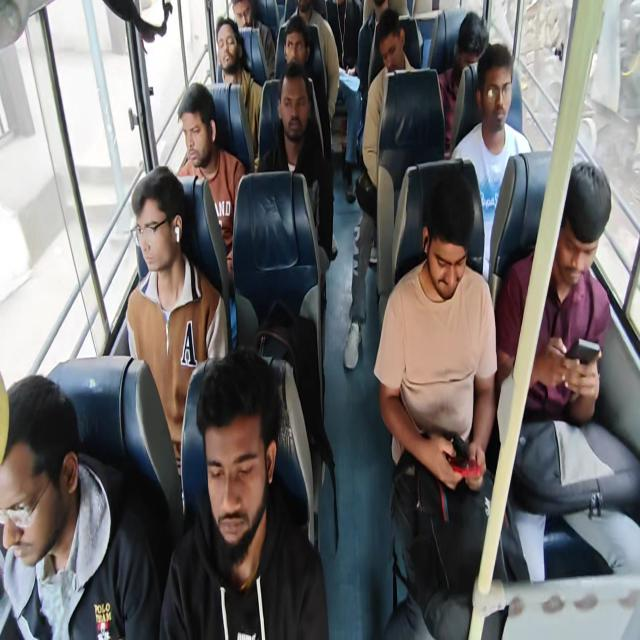person: (189, 362, 301, 640), (0, 377, 77, 610), (421, 180, 496, 347), (122, 172, 196, 318), (549, 154, 614, 303), (317, 0, 374, 106), (177, 77, 228, 194), (474, 54, 530, 132), (367, 23, 408, 111), (266, 23, 318, 84), (215, 14, 252, 94), (272, 90, 310, 162), (449, 23, 482, 68), (233, 0, 263, 41), (365, 0, 396, 26), (289, 0, 309, 18)
